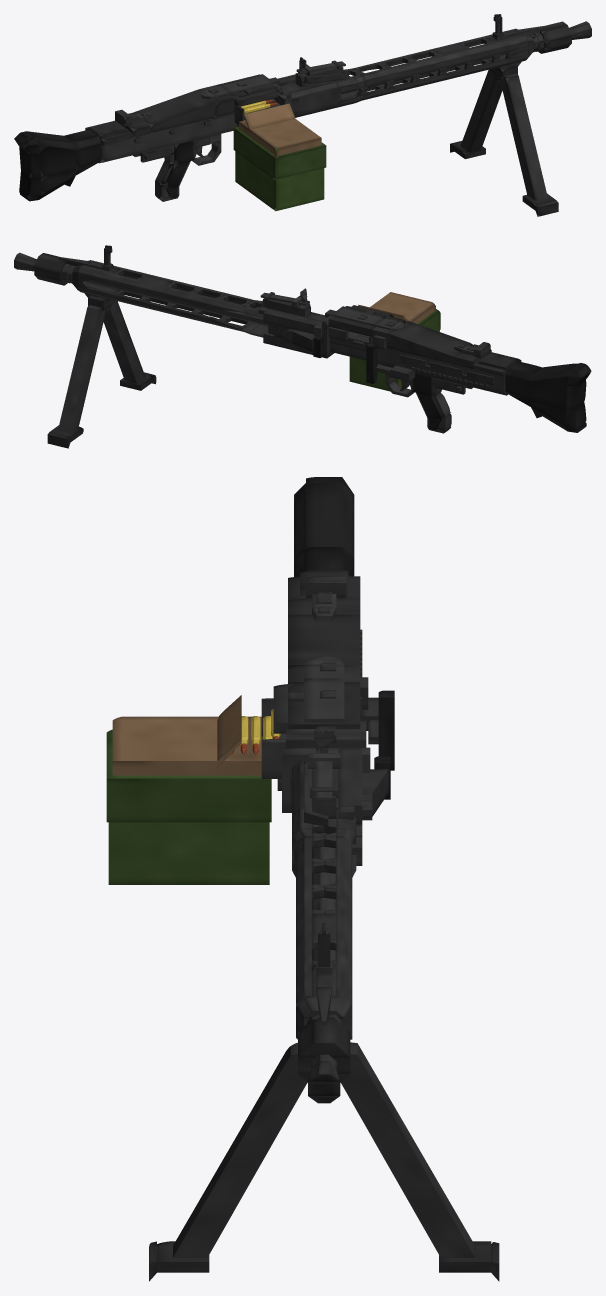
3 renders of one model, top to bottom at view 1: azimuth 30°, elevation 25°; view 2: azimuth 150°, elevation 25°; view 3: azimuth 270°, elevation 25°, orthographic. The views are drawn at different scales.
Parts seen in each view (by area): view 1: ammoModel0, gunModel242, gunModel0, ammoModel3, gunModel2, ammoModel1, gunModel243, gunModel24, gunModel25, gunModel227, gunModel26, ammoModel2 (+26 smaller); view 2: gunModel243, gunModel2, gunModel0, gunModel242, gunModel23, ammoModel1, gunModel227, gunModel134, gunModel27, ammoModel0, gunModel24, gunModel6 (+31 smaller); view 3: ammoModel0, gunModel243, gunModel242, ammoModel3, ammoModel1, gunModel230, gunModel2, gunModel23, gunModel24, gunModel123, gunModel9, gunModel6 (+8 smaller).
Part boxes in pixels (x1,y1,x2,y2): ammoModel0: [235, 135, 324, 211]; gunModel242: [500, 69, 547, 204]; gunModel0: [100, 98, 276, 162]; ammoModel3: [233, 126, 326, 179]; gunModel2: [133, 89, 216, 132]; ammoModel1: [239, 119, 321, 159]; gunModel243: [460, 68, 505, 153]; gunModel24: [360, 34, 527, 80]; gunModel25: [363, 41, 527, 86]; gunModel227: [27, 145, 75, 178]; gunModel26: [364, 55, 527, 98]; ammoModel2: [244, 103, 295, 129]; gunModel243: [58, 305, 105, 432]; gunModel2: [390, 321, 472, 364]; gunModel0: [330, 331, 506, 394]; gunModel242: [103, 301, 145, 383]; gunModel23: [78, 266, 245, 312]; ammoModel1: [370, 292, 435, 323]; gunModel227: [531, 377, 567, 410]; gunModel134: [263, 308, 322, 334]; gunModel27: [78, 286, 208, 321]; ammoModel0: [349, 321, 421, 391]; gunModel24: [89, 260, 253, 303]; gunModel6: [328, 306, 387, 336]; ammoModel0: [108, 757, 269, 884]; gunModel243: [341, 1042, 475, 1257]; gunModel242: [173, 1042, 307, 1257]; ammoModel3: [106, 729, 271, 822]; ammoModel1: [112, 716, 261, 775]; gunModel230: [294, 483, 354, 557]; gunModel2: [288, 614, 360, 668]; gunModel23: [336, 836, 352, 1002]; gunModel24: [296, 836, 311, 1003]; gunModel123: [298, 1017, 350, 1057]; gunModel9: [304, 678, 344, 722]; gunModel6: [288, 682, 360, 729].
Size of the model in its own units: 32.6 by 9.45 by 9.75.
